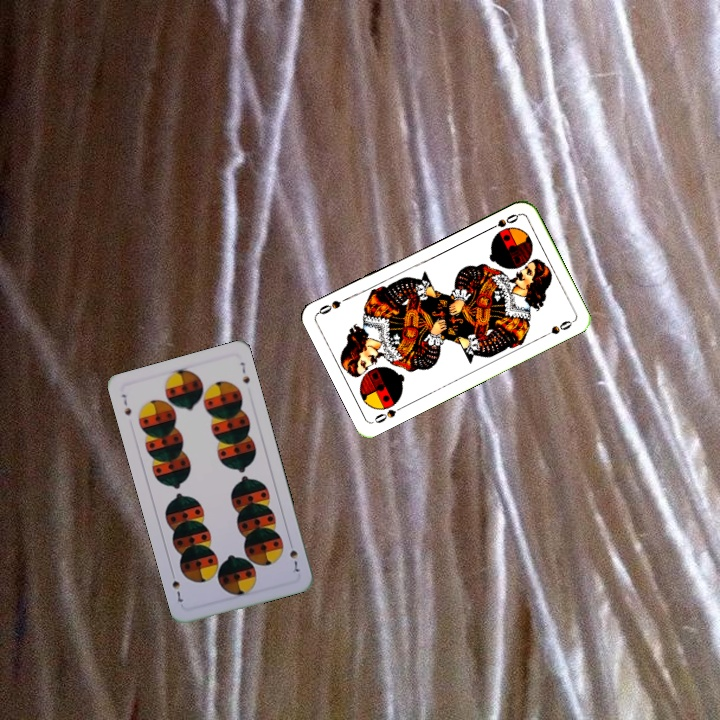S7: (285, 536, 302, 574), (117, 390, 134, 419)
SO: (369, 402, 407, 426), (483, 210, 521, 233)
